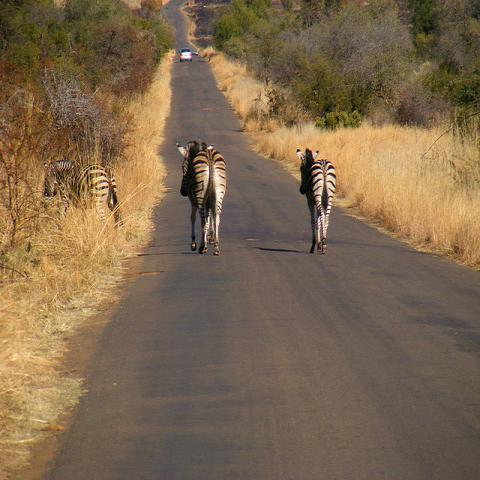car: (180, 48, 192, 62)
